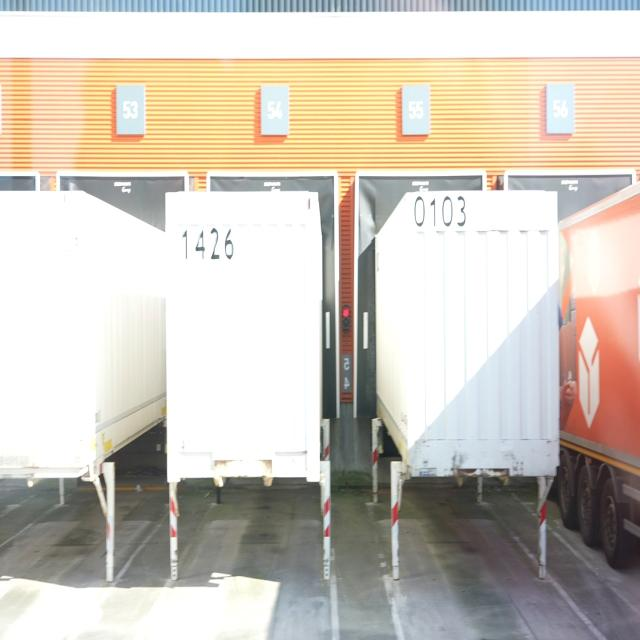Code: (178, 221, 237, 263), (414, 193, 468, 236)
